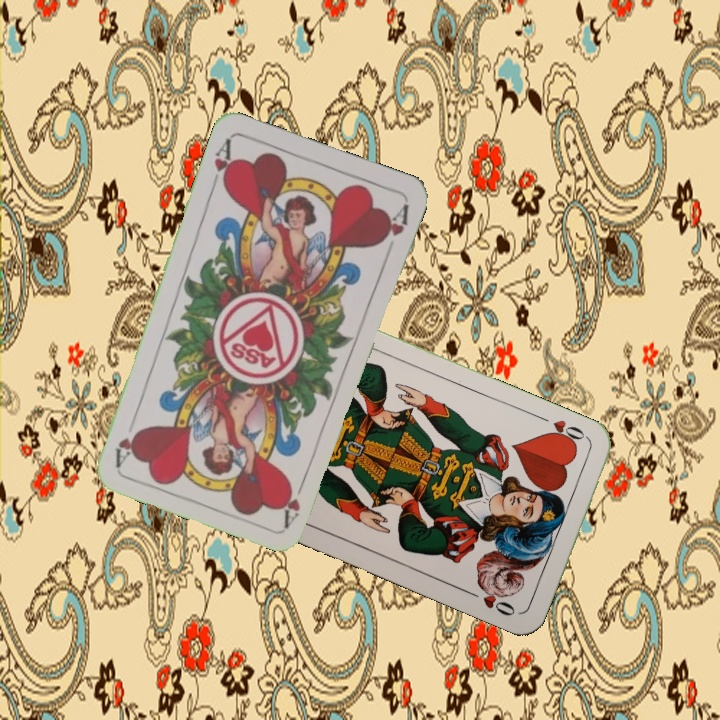HA: (207, 135, 237, 192), (279, 471, 309, 528)
HO: (536, 412, 593, 449)
